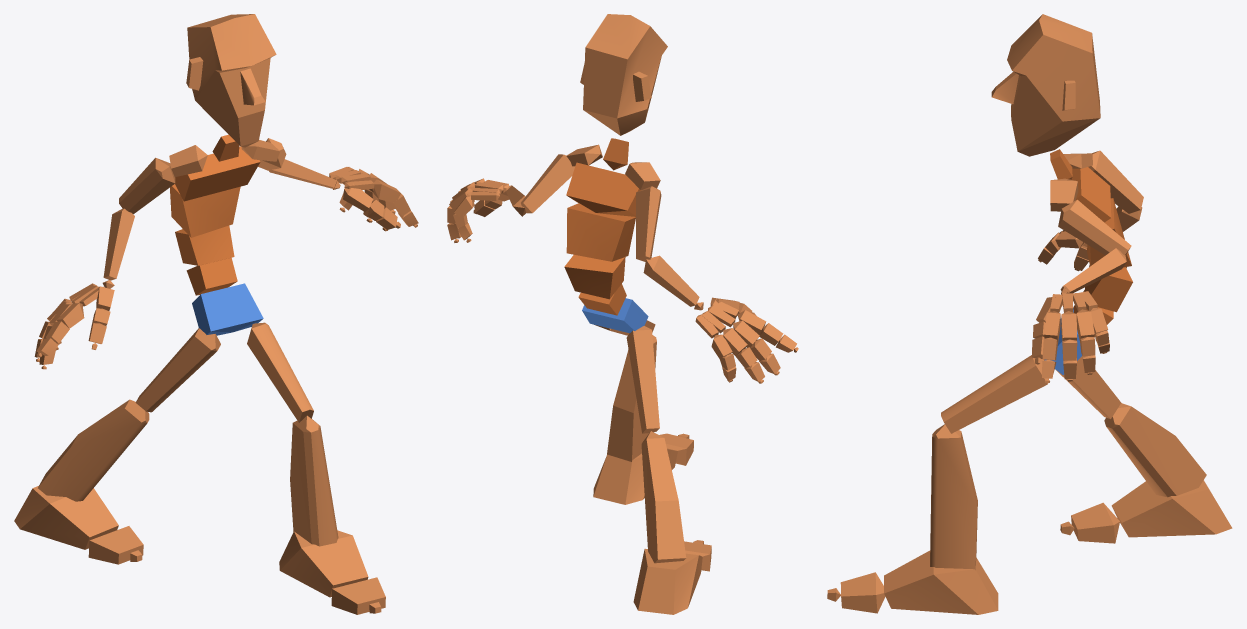
3 views of the same model, side by side, from view 1: azimuth 30°, elevation 25°; view 2: azimuth 150°, elevation 25°; view 3: azimuth 270°, elevation 25° (orthographic). The views are drawn at different scales.
Visible parts, largest first — view 1: BOPED_Head, BOPED_R_leg, BOPED_L_leg, BOPED_R_foot, BOPED_R_foot01, Bone01, BOPED_R_legup, BOPED_L_legup, Bone04, Bone05, Bone03, BOPED_R_arm_upper (+7 smaller); view 2: BOPED_Head, BOPED_R_leg, BOPED_R_foot, Bone04, Bone05, BOPED_L_leg, BOPED_R_legup, BOPED_R_foot01, Bone03, BOPED_R_arm_upper, BOPED_L_arm_upper, Bone01 (+6 smaller); view 3: BOPED_Head, BOPED_L_leg, BOPED_R_foot01, BOPED_R_leg, BOPED_R_foot, BOPED_L_legup, BOPED_L_arm_upper, BOPED_R_foot_toe01, BOPED_R_arm_upper, BOPED_R_foot_toe04, BOPED_R_legup, Bone05 (+4 smaller).
Boxes of the visible parts, x1=… form: BOPED_Head: x1=186, y1=14, x2=276, y2=147; BOPED_R_leg: x1=38, y1=399, x2=149, y2=501; BOPED_L_leg: x1=290, y1=415, x2=338, y2=546; BOPED_R_foot: x1=14, y1=486, x2=118, y2=549; BOPED_R_foot01: x1=279, y1=530, x2=368, y2=597; Bone01: x1=192, y1=283, x2=263, y2=335; BOPED_R_legup: x1=135, y1=328, x2=220, y2=412; BOPED_L_legup: x1=247, y1=322, x2=313, y2=422; Bone04: x1=170, y1=184, x2=240, y2=237; Bone05: x1=175, y1=146, x2=260, y2=201; Bone03: x1=175, y1=225, x2=234, y2=265; BOPED_R_arm_upper: x1=119, y1=157, x2=175, y2=214; BOPED_Head: x1=580, y1=14, x2=667, y2=135; BOPED_R_leg: x1=641, y1=431, x2=686, y2=563; BOPED_R_foot: x1=633, y1=548, x2=702, y2=614; Bone04: x1=566, y1=203, x2=635, y2=261; Bone05: x1=566, y1=162, x2=641, y2=216; BOPED_L_leg: x1=607, y1=335, x2=656, y2=461; BOPED_R_legup: x1=626, y1=326, x2=659, y2=433; BOPED_R_foot01: x1=593, y1=448, x2=677, y2=504; Bone03: x1=564, y1=254, x2=625, y2=299; BOPED_R_arm_upper: x1=636, y1=186, x2=661, y2=261; BOPED_L_arm_upper: x1=521, y1=154, x2=575, y2=213; Bone01: x1=582, y1=298, x2=648, y2=333; BOPED_Head: x1=991, y1=14, x2=1100, y2=156; BOPED_L_leg: x1=930, y1=424, x2=977, y2=570; BOPED_R_foot01: x1=884, y1=550, x2=998, y2=614; BOPED_R_leg: x1=1104, y1=403, x2=1206, y2=497; BOPED_R_foot: x1=1111, y1=480, x2=1232, y2=537; BOPED_L_legup: x1=941, y1=355, x2=1048, y2=433; BOPED_L_arm_upper: x1=1058, y1=199, x2=1131, y2=255; BOPED_R_foot_toe01: x1=1071, y1=502, x2=1119, y2=543; BOPED_R_arm_upper: x1=1088, y1=150, x2=1143, y2=213; BOPED_R_foot_toe04: x1=840, y1=572, x2=885, y2=613; BOPED_R_legup: x1=1055, y1=356, x2=1121, y2=418; Bone05: x1=1071, y1=167, x2=1111, y2=222.
Bounding box in the file's own units: 130 × 178 × 117.
